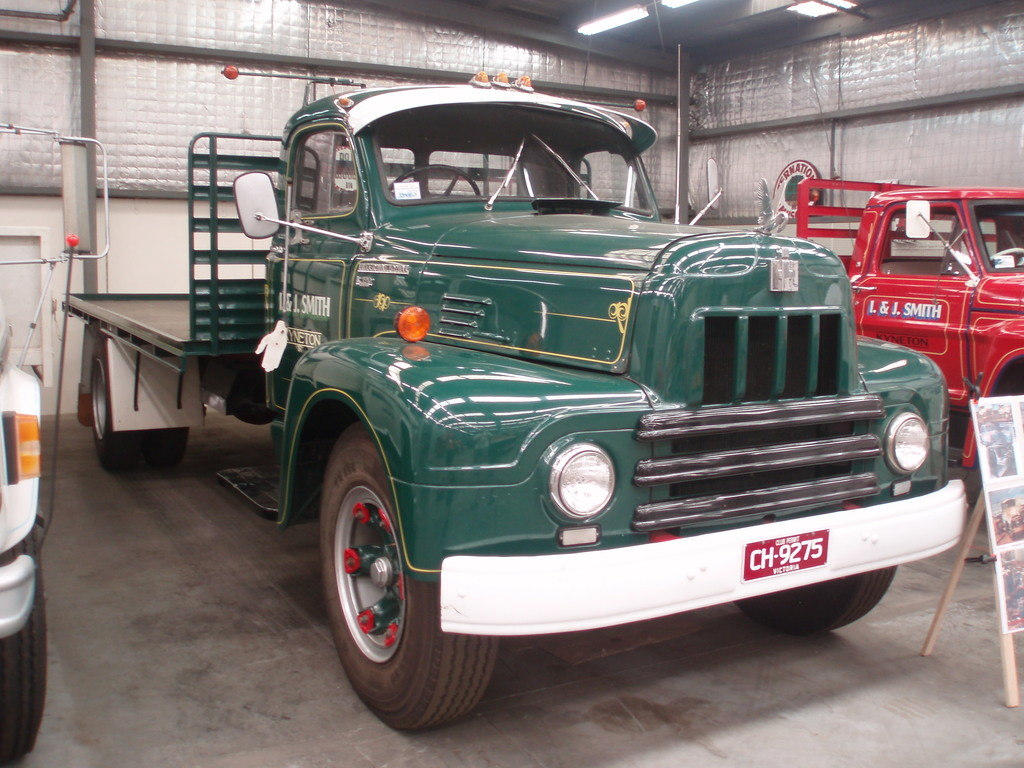truck: (61, 61, 951, 747), (778, 149, 1024, 457)
